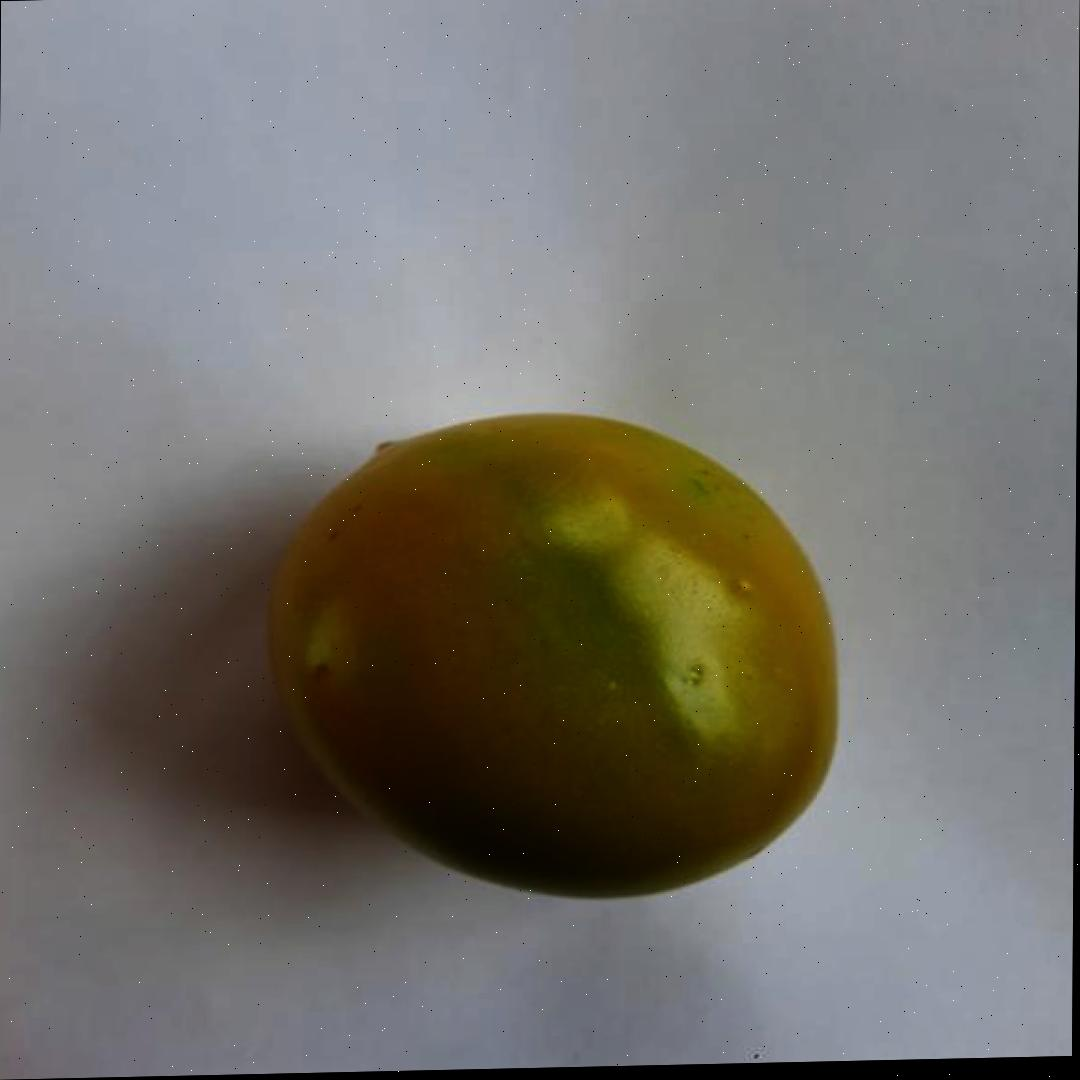setengah_matang: (255, 398, 846, 911)
